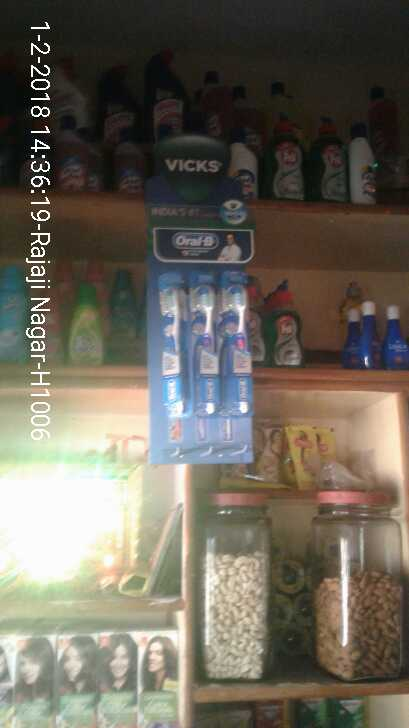oralb: (183, 270, 224, 418), (153, 263, 188, 426), (219, 278, 247, 402)
